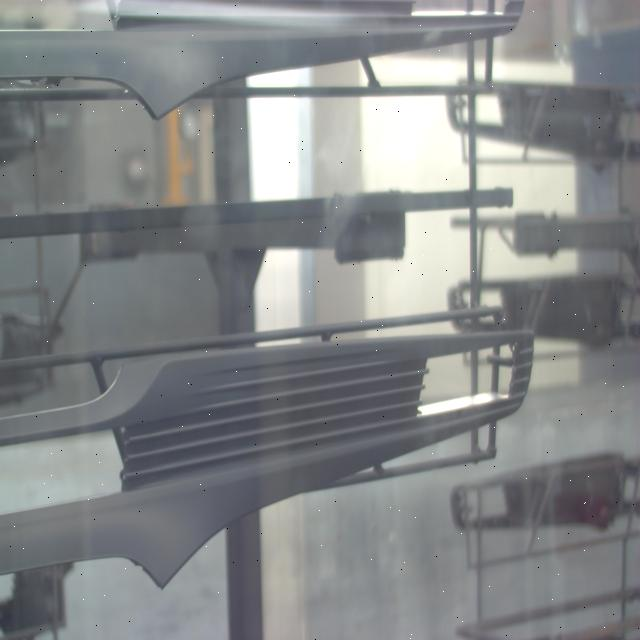Primered: (0, 323, 536, 587), (0, 4, 527, 118)
